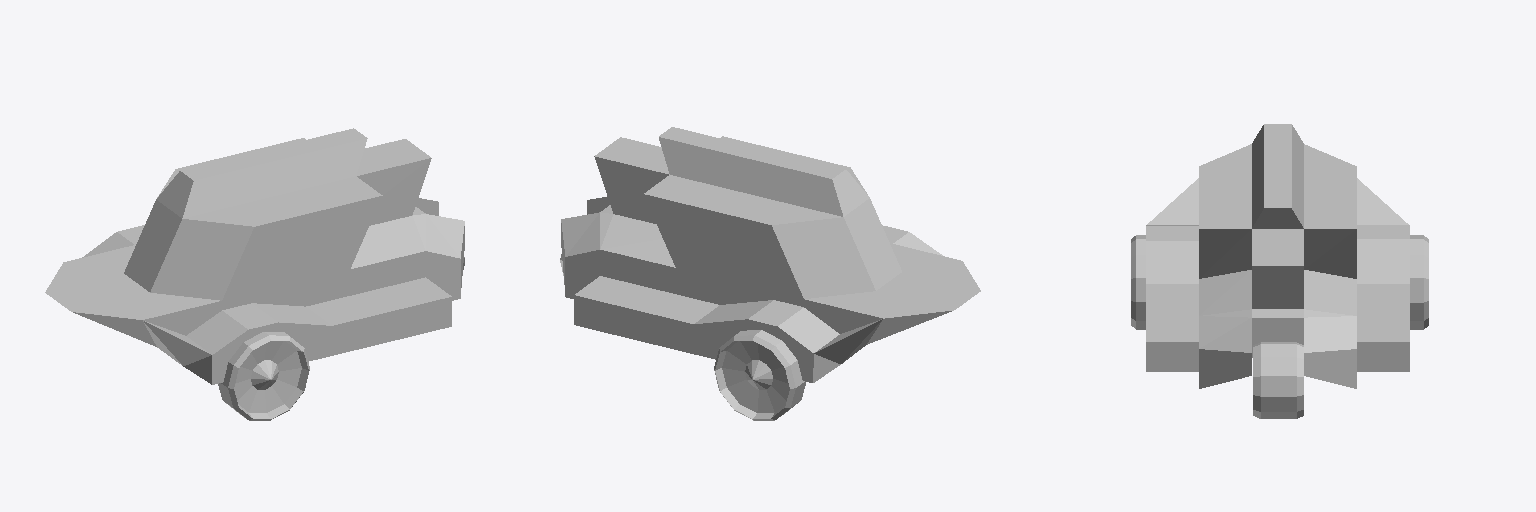
File: CrackHammerBleeder.obj
3 views of the same model, side by side, from view 1: azimuth 30°, elevation 25°; view 2: azimuth 150°, elevation 25°; view 3: azimuth 270°, elevation 25° (orthographic).
Size of the model in its own units: 11.67 by 5.5 by 7.55.